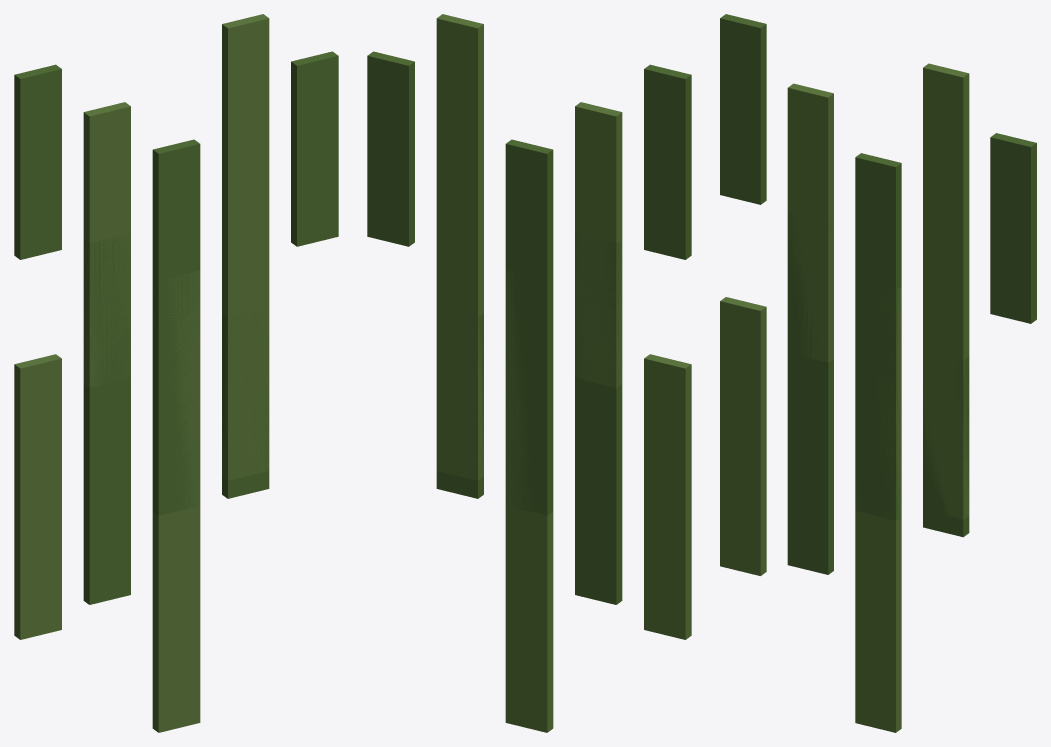
File: deco_ivy.glb
3 views of the same model, side by side, from view 1: azimuth 30°, elevation 25°; view 2: azimuth 150°, elevation 25°; view 3: azimuth 330°, elevation 25° (orthographic). The views are drawn at different scales.
Parts seen in each view (by area): view 1: vine3, vine6, vine2, vine7, vine5, vine1, vine0, vine4, vine8; view 2: vine3, vine2, vine6, vine7, vine5, vine1, vine0, vine4, vine8; view 3: vine3, vine2, vine6, vine5, vine7, vine1, vine0, vine4, vine8.
Part boxes in pixels (x1=…): vine3: x1=222, y1=14, x2=269, y2=480; vine6: x1=83, y1=233, x2=130, y2=604; vine2: x1=152, y1=139, x2=200, y2=515; vine7: x1=152, y1=271, x2=200, y2=732; vine5: x1=14, y1=354, x2=61, y2=639; vine1: x1=83, y1=102, x2=130, y2=387; vine0: x1=14, y1=64, x2=61, y2=259; vine4: x1=291, y1=51, x2=338, y2=246; vine8: x1=222, y1=310, x2=269, y2=498; vine3: x1=436, y1=14, x2=483, y2=480; vine2: x1=505, y1=139, x2=553, y2=515; vine6: x1=575, y1=233, x2=622, y2=604; vine7: x1=505, y1=270, x2=553, y2=732; vine5: x1=644, y1=354, x2=691, y2=639; vine1: x1=575, y1=102, x2=622, y2=387; vine0: x1=644, y1=64, x2=691, y2=259; vine4: x1=367, y1=51, x2=414, y2=246; vine8: x1=436, y1=310, x2=483, y2=498; vine3: x1=923, y1=63, x2=969, y2=519; vine2: x1=855, y1=153, x2=901, y2=520; vine6: x1=787, y1=212, x2=833, y2=574; vine5: x1=720, y1=297, x2=766, y2=575; vine7: x1=855, y1=283, x2=901, y2=732; vine1: x1=787, y1=83, x2=833, y2=362; vine0: x1=720, y1=14, x2=766, y2=204; vine4: x1=990, y1=133, x2=1036, y2=323; vine8: x1=923, y1=356, x2=969, y2=537.
Size of the model in its own units: 0.92 by 1.9 by 0.03.
